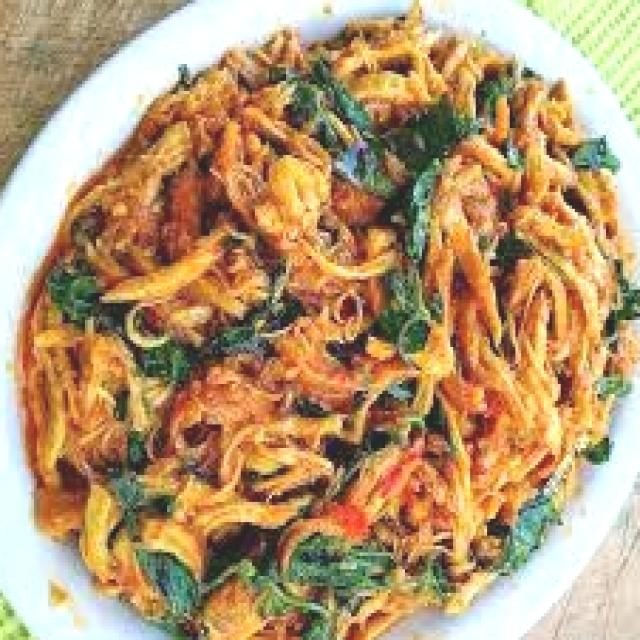ayam_suwir: (20, 27, 626, 640)
